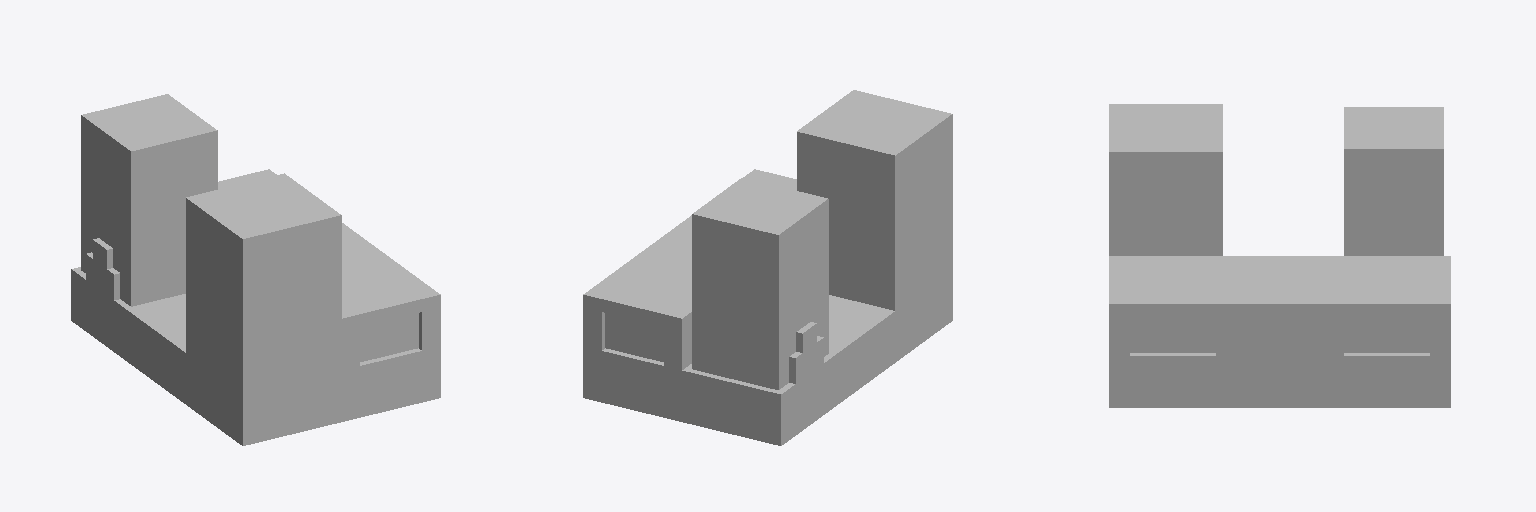
File: hydrojet.obj
3 renders of one model, left to right at view 1: azimuth 30°, elevation 25°; view 2: azimuth 150°, elevation 25°; view 3: azimuth 270°, elevation 25°, orthographic.
Visible parts, largest first — view 1: base_block; view 2: base_block; view 3: base_block.
Part boxes in pixels (x1,y1,x2,y2): base_block: (71,94,440,445); base_block: (583,90,952,445); base_block: (1109,104,1450,407).
Size of the model in its own units: 2 by 2 by 3.